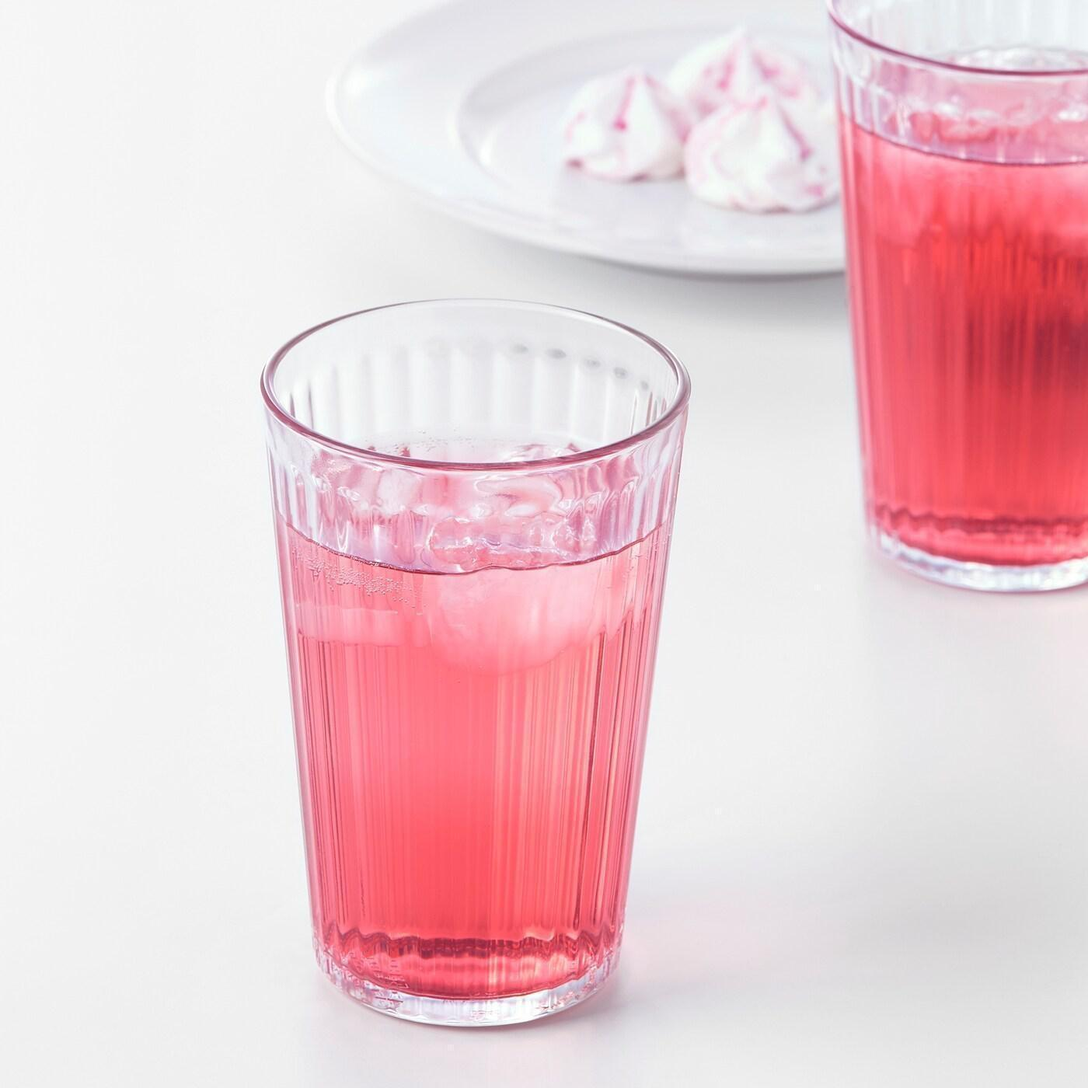glass-normal: (255, 293, 696, 1031), (822, 0, 1087, 595)
